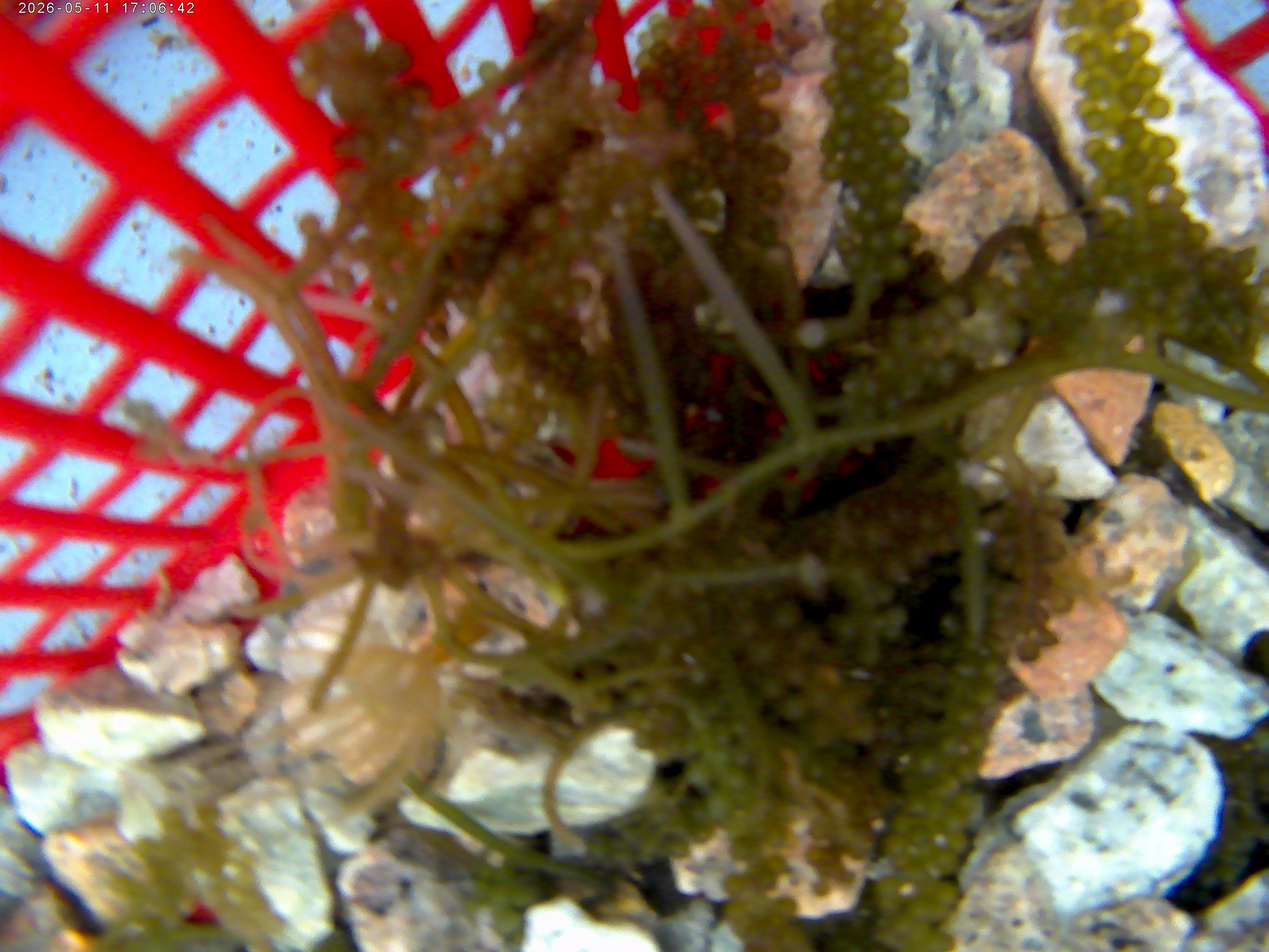Darkening: (372, 39, 419, 76), (327, 13, 367, 52), (299, 45, 335, 75), (769, 604, 799, 635), (368, 266, 397, 298), (845, 498, 877, 526), (761, 147, 792, 175), (864, 522, 892, 553), (985, 507, 1017, 534), (917, 508, 945, 537), (529, 204, 558, 230), (793, 634, 820, 661), (523, 319, 551, 345), (780, 694, 806, 722), (409, 82, 434, 111), (465, 135, 494, 160), (296, 76, 327, 99), (501, 175, 524, 205), (755, 110, 781, 136), (750, 641, 775, 668), (767, 245, 793, 270), (482, 212, 508, 237), (476, 189, 503, 212), (805, 846, 831, 869), (1042, 540, 1066, 563), (758, 70, 782, 93), (569, 73, 590, 99), (547, 293, 571, 315), (759, 677, 785, 697), (1045, 500, 1068, 522), (521, 87, 544, 109), (431, 175, 453, 198), (785, 664, 808, 686), (568, 280, 591, 302), (1017, 638, 1037, 663), (996, 533, 1018, 555), (717, 161, 739, 183), (603, 79, 625, 101), (761, 184, 783, 206), (456, 295, 478, 317), (565, 226, 587, 248), (573, 109, 594, 132), (737, 130, 758, 153), (689, 7, 710, 29), (939, 616, 961, 637), (989, 610, 1012, 630), (487, 333, 508, 354), (578, 193, 599, 214), (499, 301, 519, 322), (562, 176, 583, 196), (429, 326, 450, 346), (500, 384, 521, 404), (528, 407, 548, 427), (1030, 606, 1048, 628), (400, 253, 418, 275), (1002, 582, 1021, 602), (581, 33, 600, 53), (629, 196, 648, 216), (698, 56, 717, 75), (682, 35, 701, 54), (1039, 630, 1058, 648), (536, 246, 554, 265), (810, 822, 829, 840), (637, 83, 656, 101), (648, 43, 668, 60), (545, 349, 563, 367), (411, 218, 429, 236), (437, 272, 455, 290), (458, 233, 475, 252), (433, 307, 450, 326), (812, 880, 829, 898), (745, 8, 762, 25), (661, 65, 678, 82), (715, 81, 732, 98), (689, 107, 706, 124), (840, 870, 856, 886), (502, 403, 518, 419), (667, 85, 682, 101), (756, 47, 771, 63), (551, 61, 566, 77), (685, 170, 700, 184), (725, 148, 739, 163), (999, 632, 1013, 646), (662, 51, 676, 65)
Harvestable: (686, 756, 716, 790), (706, 790, 734, 821), (1129, 235, 1158, 262), (1199, 259, 1227, 286), (1122, 32, 1149, 58), (934, 883, 960, 910), (942, 295, 970, 320), (1163, 251, 1190, 276), (936, 359, 961, 386), (939, 810, 965, 834), (879, 173, 906, 196), (1004, 290, 1029, 314), (831, 44, 857, 67), (934, 776, 960, 799), (887, 255, 911, 279), (888, 912, 911, 937), (1120, 119, 1143, 143), (882, 836, 906, 859), (1145, 203, 1169, 226), (880, 198, 903, 222), (956, 758, 978, 783), (903, 795, 928, 817), (923, 903, 950, 923), (1142, 289, 1169, 309), (726, 770, 749, 793), (889, 226, 912, 249), (872, 52, 897, 73), (1119, 273, 1144, 294), (881, 884, 901, 910), (1110, 53, 1133, 75), (1137, 66, 1159, 89), (1170, 317, 1193, 339), (837, 103, 859, 126), (1078, 47, 1102, 68), (936, 853, 961, 873), (855, 210, 881, 229), (1146, 96, 1168, 118), (893, 814, 915, 836), (884, 2, 906, 24), (957, 709, 979, 731), (1035, 467, 1057, 489), (1086, 78, 1108, 100), (1098, 10, 1121, 31), (916, 757, 939, 778), (908, 920, 929, 943), (929, 311, 950, 334), (861, 377, 882, 400), (865, 234, 886, 256), (1156, 165, 1177, 187), (689, 666, 710, 688), (843, 252, 865, 273), (881, 394, 902, 416), (877, 354, 898, 376), (711, 748, 732, 770), (1068, 7, 1090, 28), (936, 735, 956, 758), (919, 335, 939, 358), (871, 114, 890, 138), (909, 826, 933, 845), (1187, 223, 1208, 244), (833, 129, 854, 150), (970, 732, 991, 753), (1126, 152, 1147, 173), (844, 64, 865, 85), (868, 157, 889, 178), (1153, 137, 1175, 157), (887, 26, 907, 48), (889, 115, 909, 137), (1083, 111, 1105, 131), (628, 688, 650, 708), (977, 688, 999, 708), (933, 933, 956, 952), (778, 896, 797, 919), (1093, 149, 1113, 170), (1123, 85, 1143, 106), (887, 608, 908, 628), (1164, 301, 1185, 321), (1083, 140, 1104, 160), (1106, 73, 1126, 94), (889, 81, 911, 100), (947, 831, 966, 853), (957, 662, 979, 681), (1138, 133, 1156, 156), (907, 902, 931, 919), (1163, 228, 1183, 248), (848, 146, 868, 166), (1052, 594, 1072, 614), (1063, 35, 1083, 55), (821, 161, 841, 181), (1113, 219, 1133, 239), (1100, 212, 1120, 232), (1050, 266, 1070, 286), (733, 749, 753, 769), (1072, 69, 1092, 89), (852, 90, 871, 111), (1107, 177, 1128, 196), (890, 62, 909, 82), (1121, 0, 1140, 20), (839, 21, 858, 41), (821, 4, 841, 23), (758, 872, 778, 891), (828, 90, 848, 109), (983, 660, 1002, 680), (1028, 275, 1047, 295), (1215, 288, 1235, 307), (842, 378, 862, 397), (1079, 25, 1098, 45), (866, 81, 885, 100), (767, 829, 786, 848), (690, 806, 709, 825), (1090, 177, 1108, 197), (1076, 99, 1097, 116), (1164, 190, 1185, 207), (1056, 8, 1072, 30), (856, 32, 875, 50), (1091, 63, 1110, 81), (822, 77, 842, 94), (889, 143, 905, 164), (919, 361, 937, 379), (855, 130, 874, 147), (890, 854, 907, 873), (657, 642, 674, 661), (859, 7, 876, 25), (652, 25, 670, 42), (638, 33, 656, 50), (855, 184, 872, 201), (635, 52, 652, 69), (1108, 163, 1125, 180), (988, 278, 1005, 295), (714, 730, 731, 747), (731, 721, 748, 738), (871, 27, 889, 43), (839, 0, 860, 13), (902, 156, 918, 173), (639, 718, 656, 734), (1236, 262, 1253, 278), (1147, 153, 1163, 170), (824, 19, 841, 35), (821, 137, 836, 155), (838, 239, 854, 255), (1213, 247, 1229, 263), (956, 743, 972, 759), (1232, 322, 1248, 338), (1113, 23, 1129, 39), (877, 135, 893, 150), (978, 645, 993, 660), (1141, 89, 1156, 104), (851, 232, 866, 247), (1128, 175, 1143, 190), (877, 74, 892, 88), (965, 638, 980, 652), (834, 150, 848, 165)
